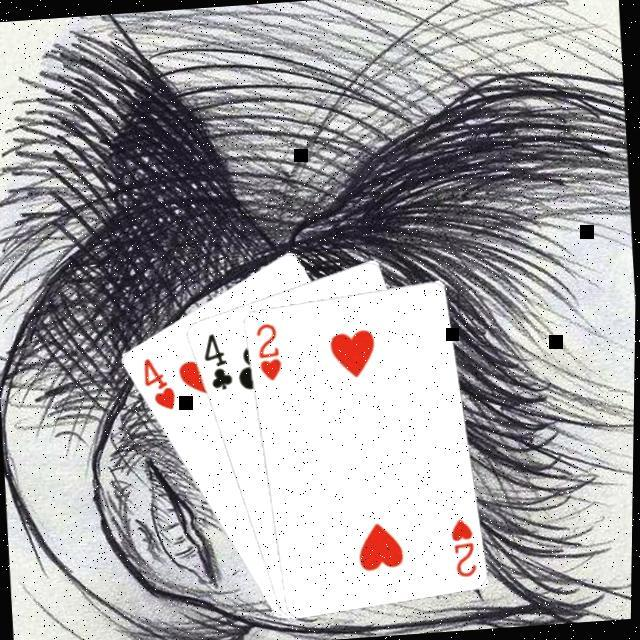2H: (252, 317, 286, 383), (448, 512, 482, 578)
4C: (199, 327, 238, 393)
4H: (139, 351, 181, 413)
